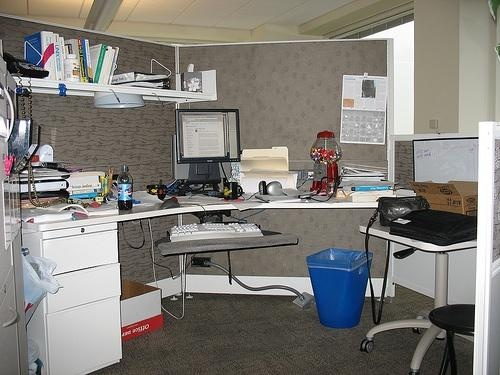tvmonitor: (176, 110, 240, 188)
